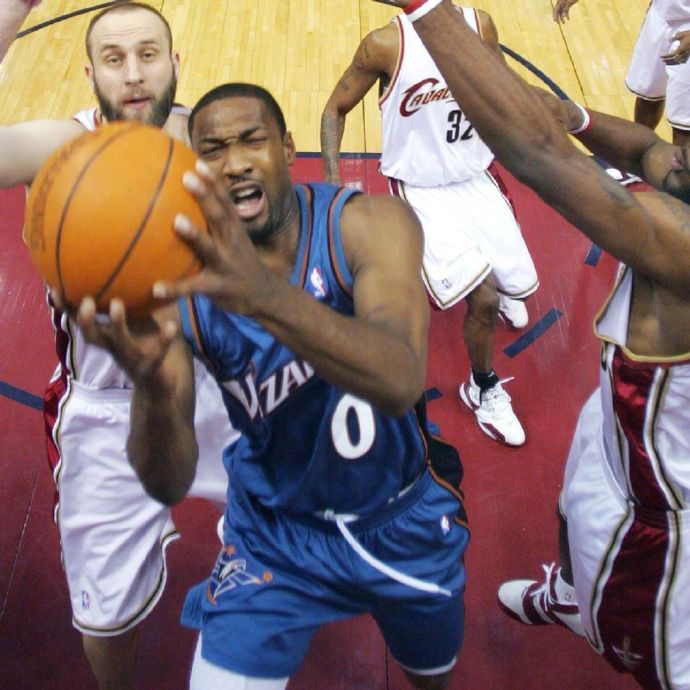ball: (25, 120, 214, 313)
